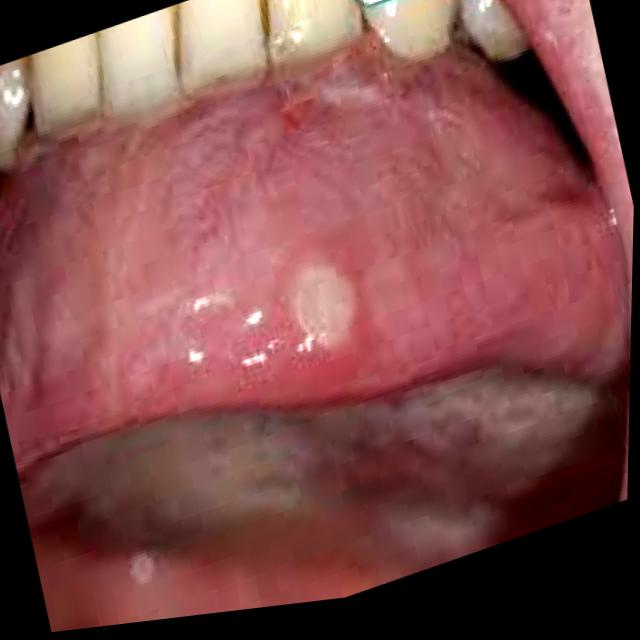ulcer: (294, 264, 364, 349)
